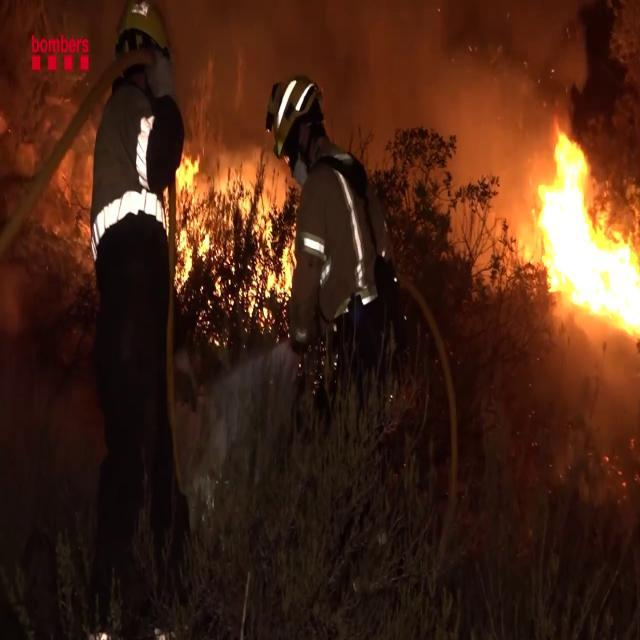Fire: (525, 127, 640, 338), (172, 138, 298, 330)
Smoke: (316, 1, 596, 177)
